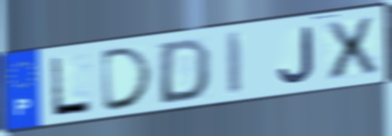D: (156, 36, 214, 107), (100, 44, 157, 114)
I: (225, 29, 246, 97)
J: (276, 24, 317, 85)
L: (48, 55, 94, 118)
X: (321, 14, 382, 83)
